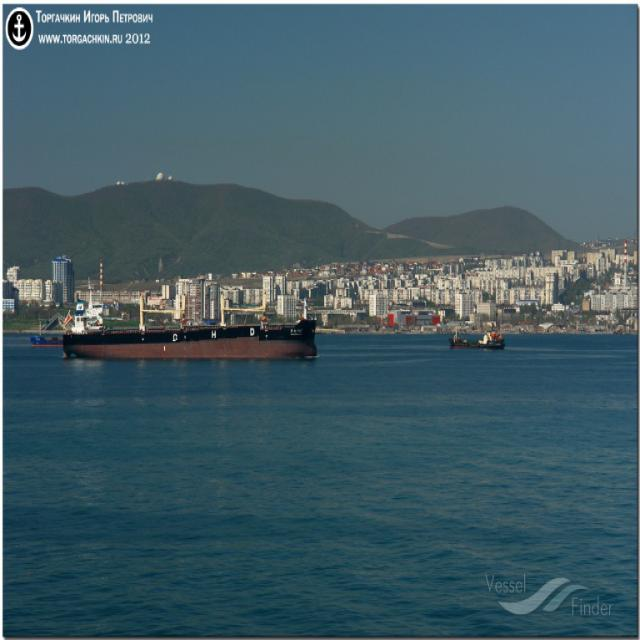OCR: (170, 326, 260, 350)
